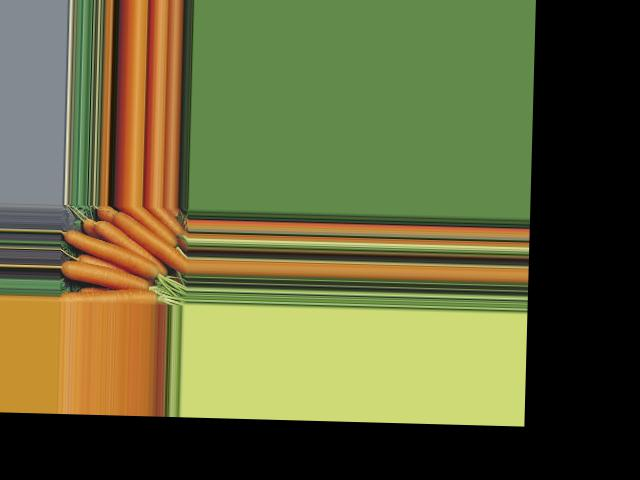carrot: (110, 209, 187, 273)
